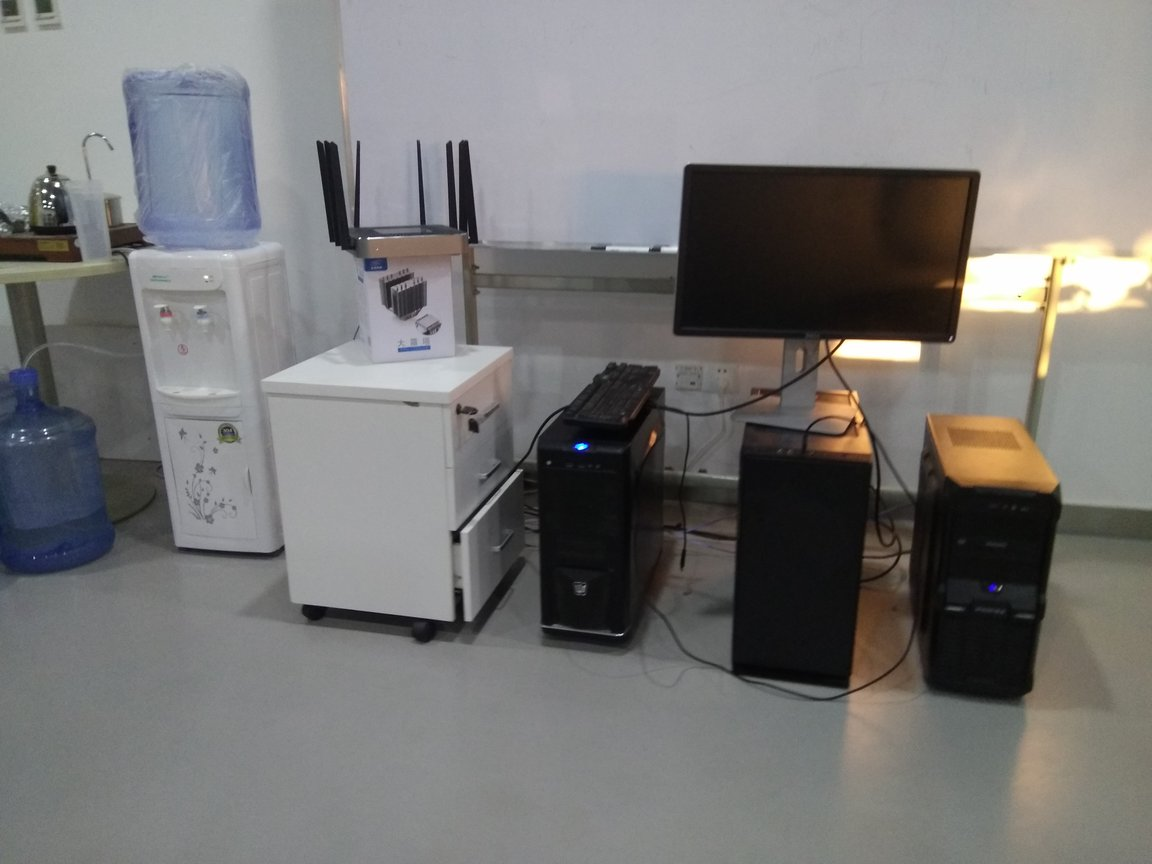computer: (734, 386, 871, 694), (911, 412, 1046, 702), (537, 384, 670, 664)
drawer chest: (261, 341, 518, 641)
monitor: (678, 153, 983, 438)
scuttlebutt: (109, 67, 274, 246), (1, 369, 119, 578)
water dispenser: (132, 238, 296, 556)
